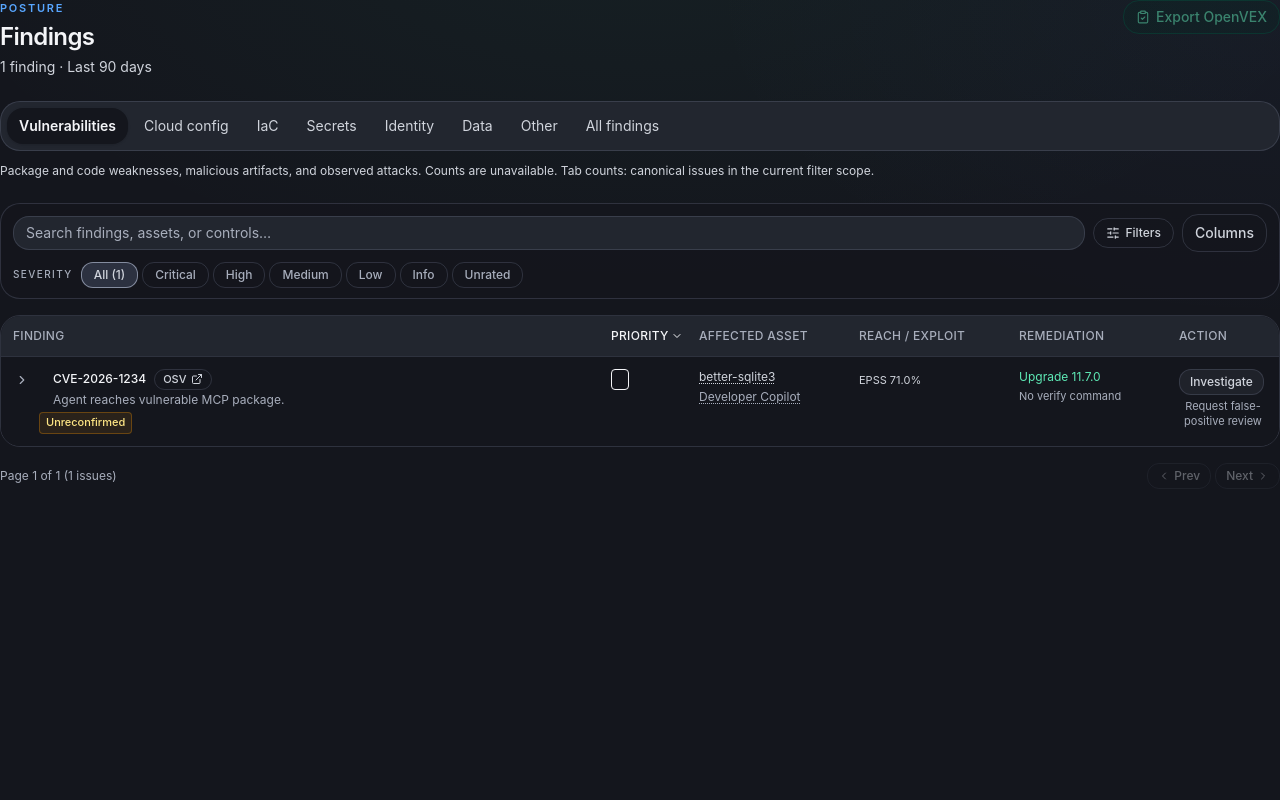
Test case: FindingsPage › shows an unreconfirmed collection qualifier through the API-to-drawer path
Step 1. Click the button "Investigate" → (1221, 382), box [1179,368,1264,394]
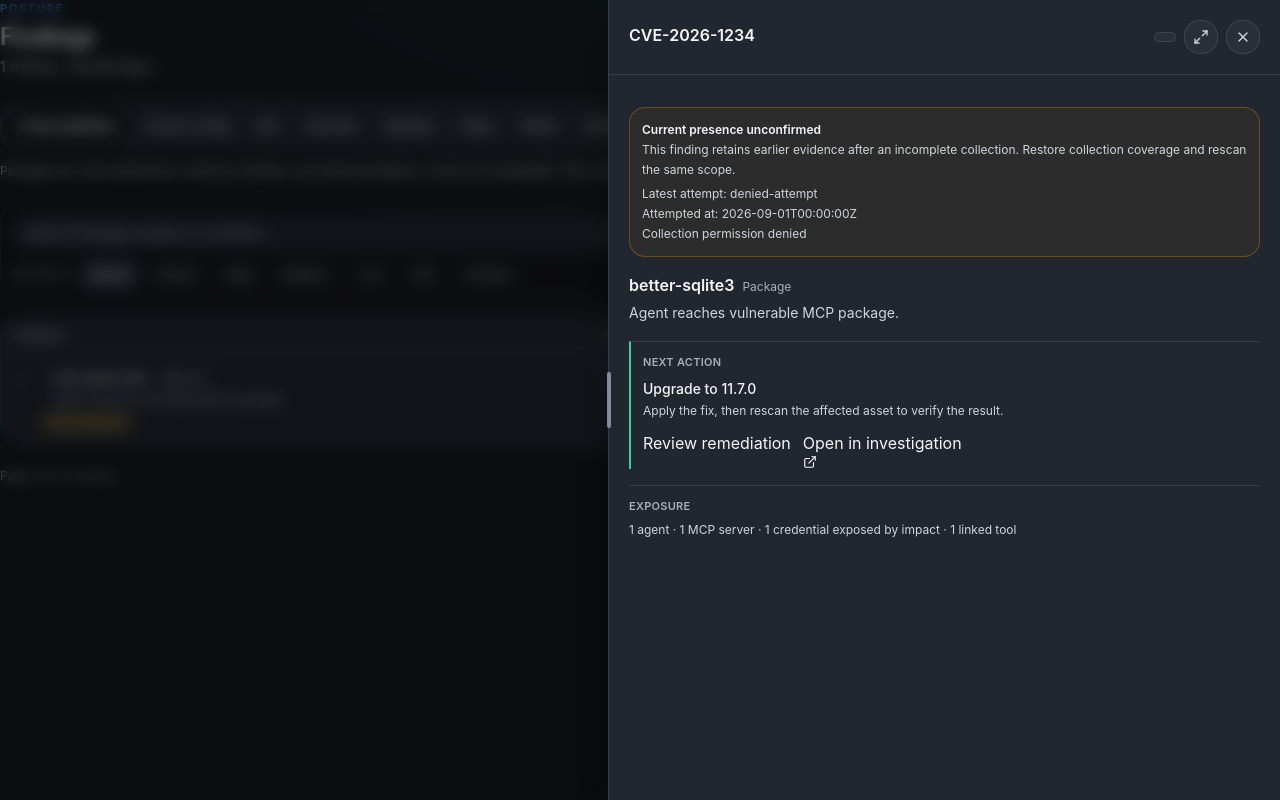
Check: the element named "Unreconfirmed collection evidence" shows "denied-attempt", box [730,186,818,201]
Check: the text "Collection permission denied" is shown, box [642,226,806,241]
